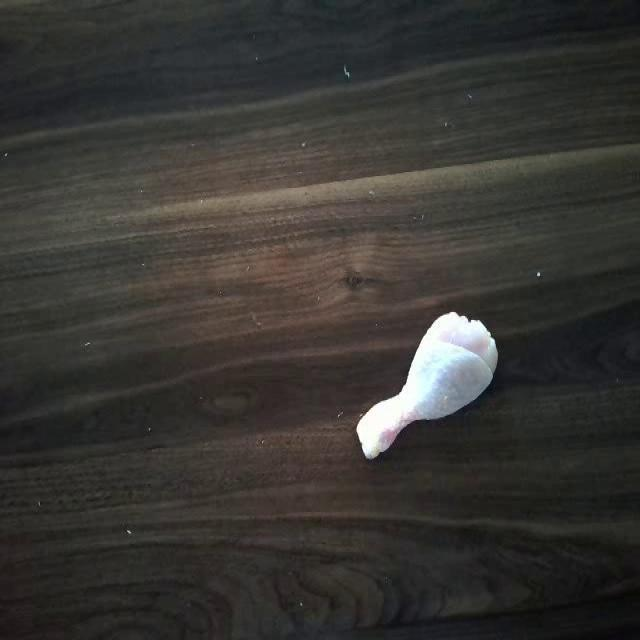leg: (352, 293, 502, 469)
